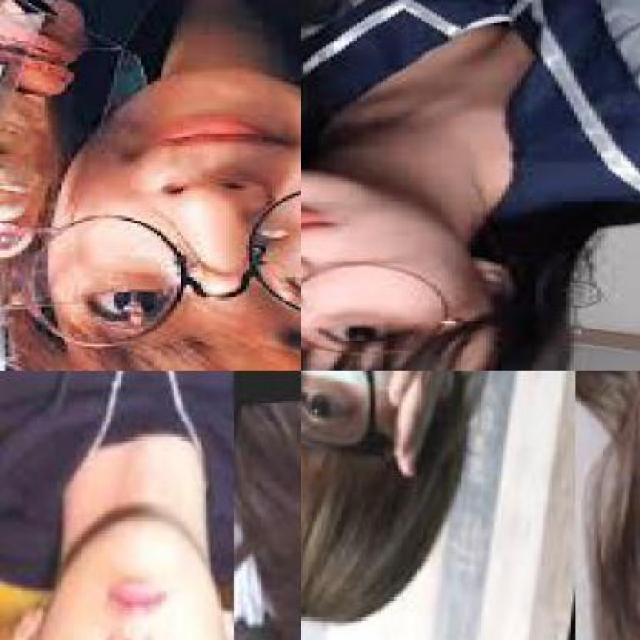mask: (30, 188, 298, 340), (300, 260, 486, 348), (300, 370, 418, 476)
